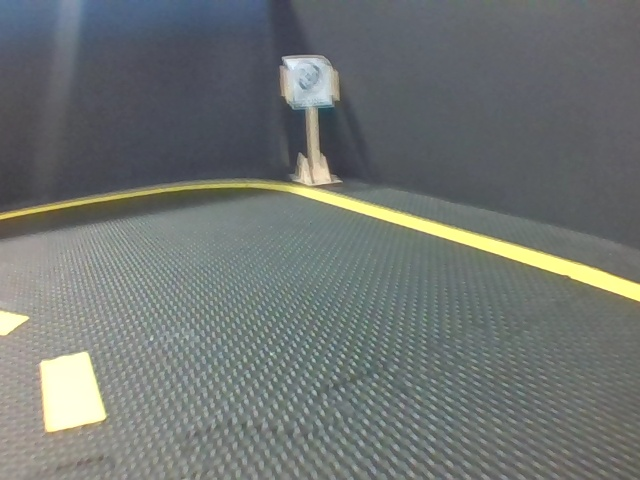no30: (284, 55, 334, 107)
